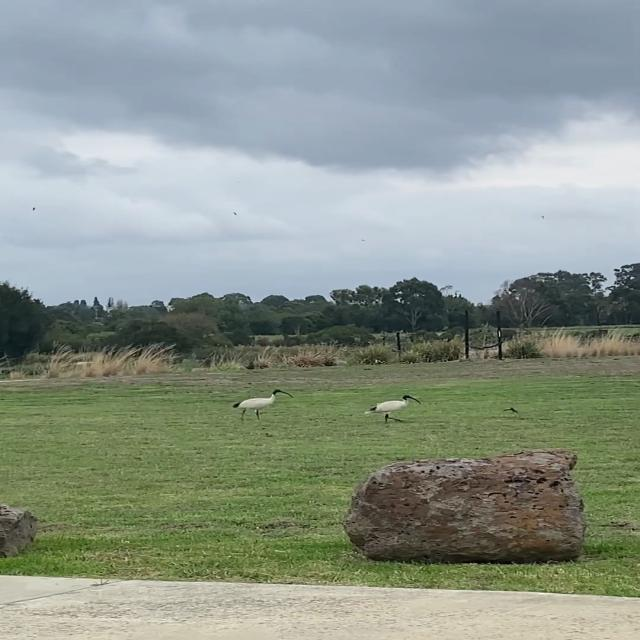Birds-Ibis: (225, 386, 296, 425), (358, 390, 424, 427)
